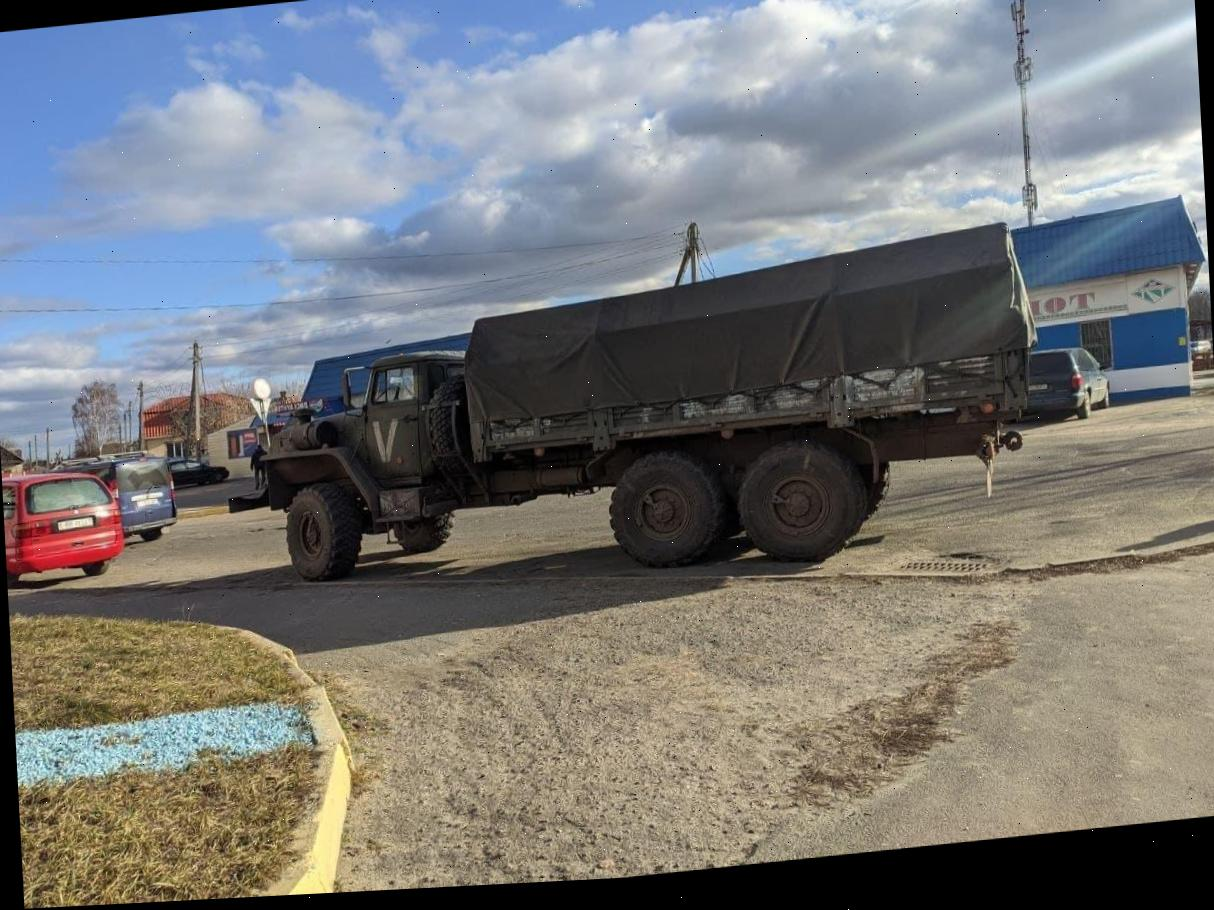truck: (252, 220, 1035, 615)
